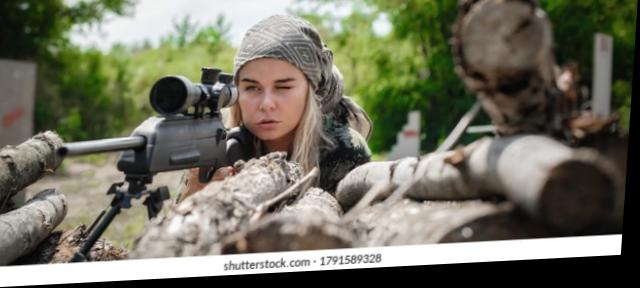other: (208, 26, 352, 177)
